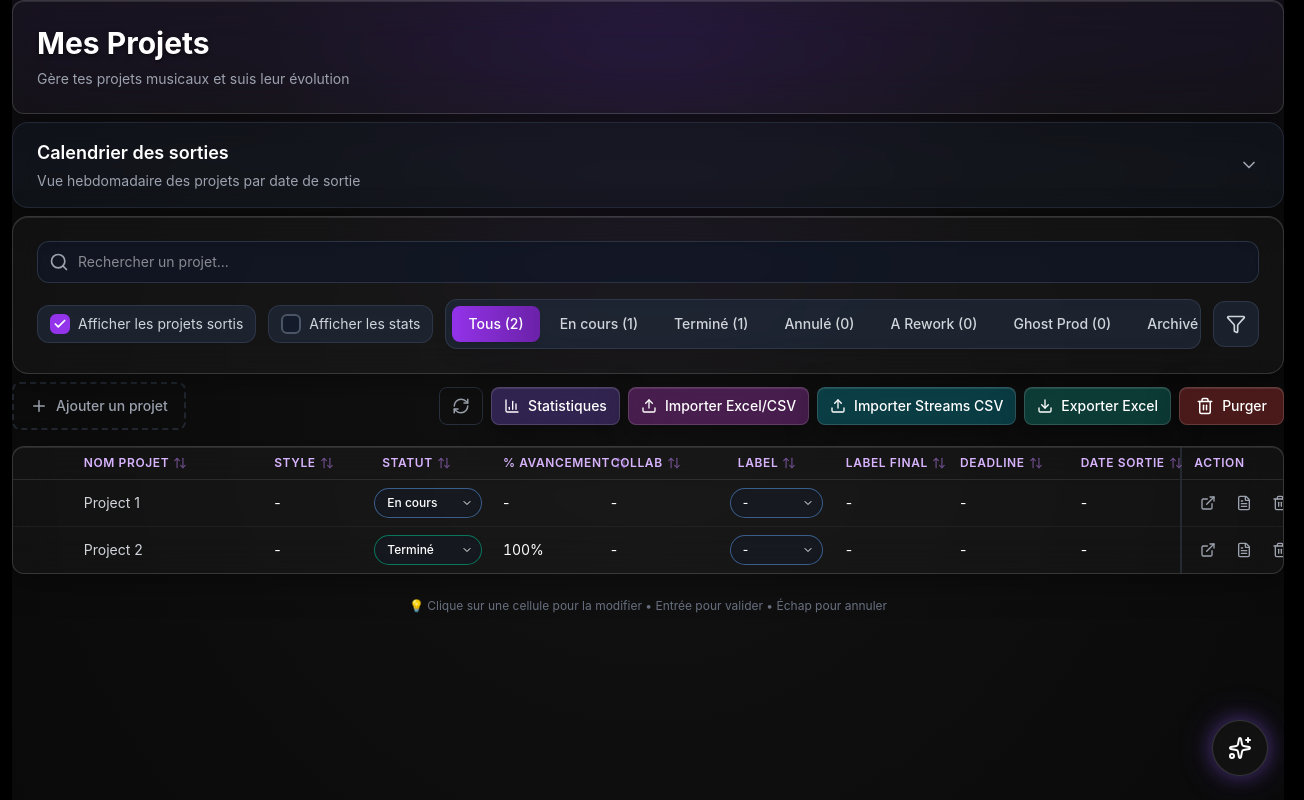
Scenario: ProjectsClient › should handle search
Type "Project 1" into the field with placeholder "Rechercher un projet...". click: coordinates (648, 262)
box: [37,241,1259,283]
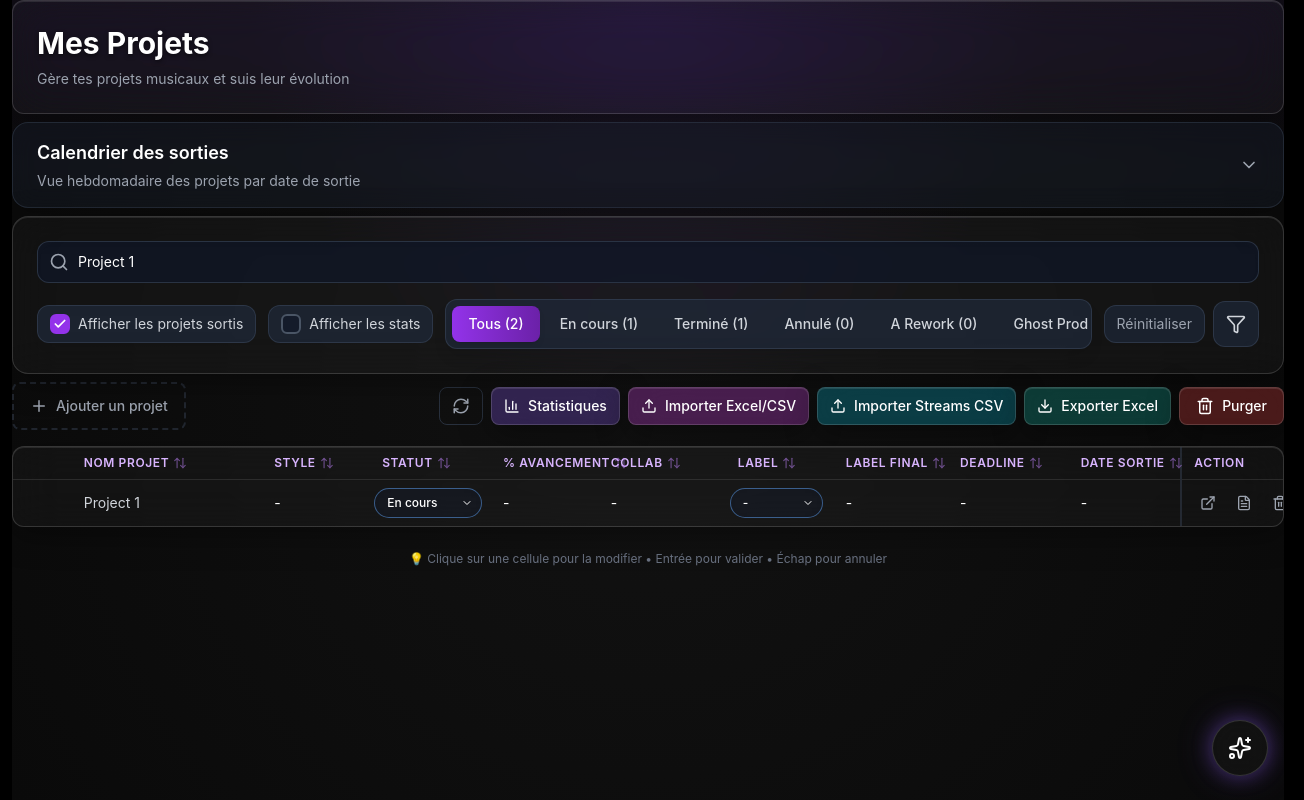
Check: the button "Project 1" is shown, box [76,490,242,516]
Check: the button "Project 2" is gone
